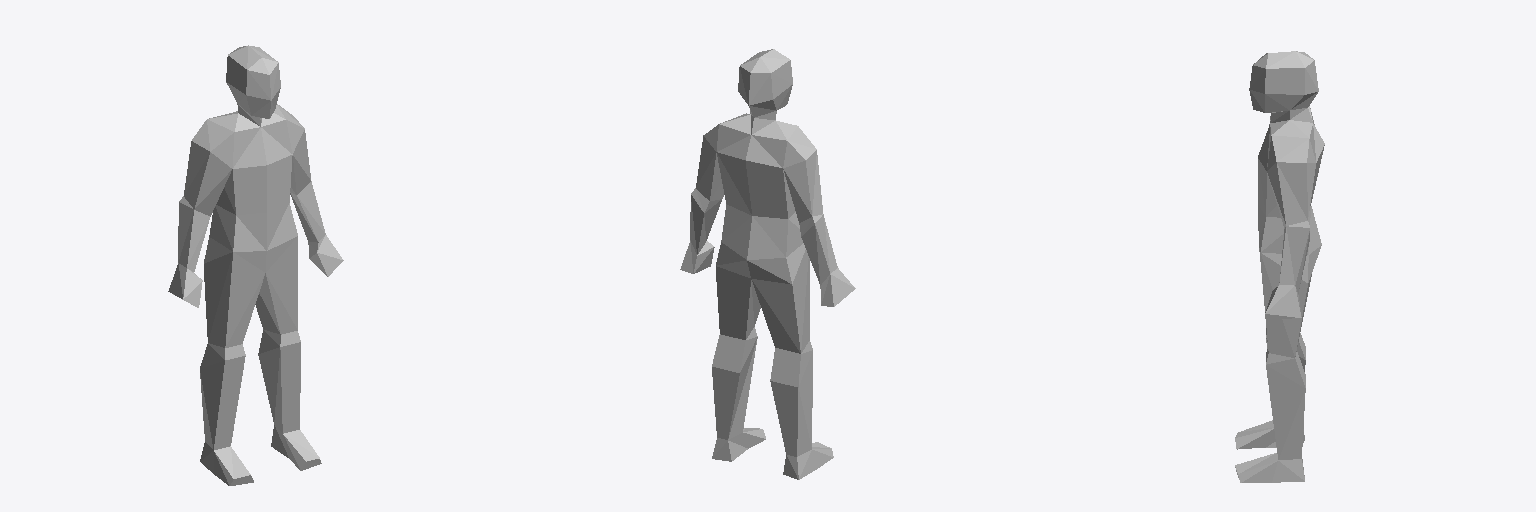
File: human_low.obj
The picture shows the model from 3 angles: view 1: azimuth 30°, elevation 25°; view 2: azimuth 150°, elevation 25°; view 3: azimuth 270°, elevation 25°; orthographic projection.
Visible parts, largest first — view 1: HumanLow; view 2: HumanLow; view 3: HumanLow.
Boxes of the visible parts, box(x1,y1,x2,y2) form: HumanLow: box(168, 45, 343, 485); HumanLow: box(680, 49, 855, 479); HumanLow: box(1235, 51, 1324, 482).
Size of the model in its own units: 0.8065 by 1.97 by 0.3919.